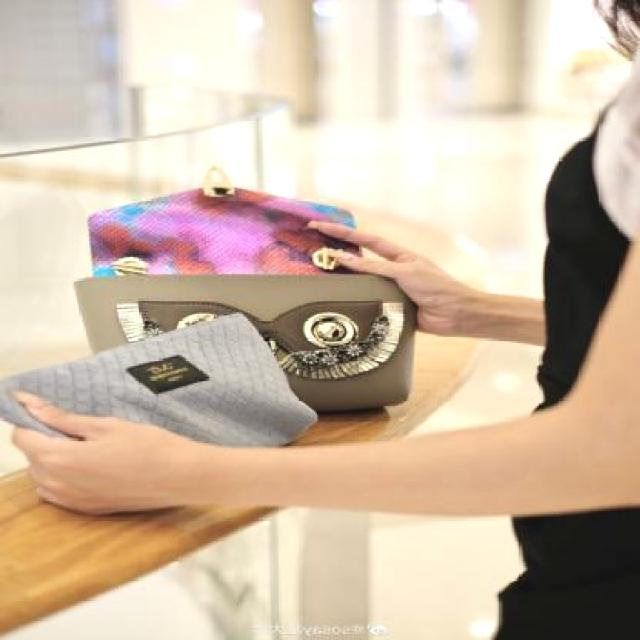hand_noglove: (10, 391, 196, 523), (302, 220, 473, 342)
